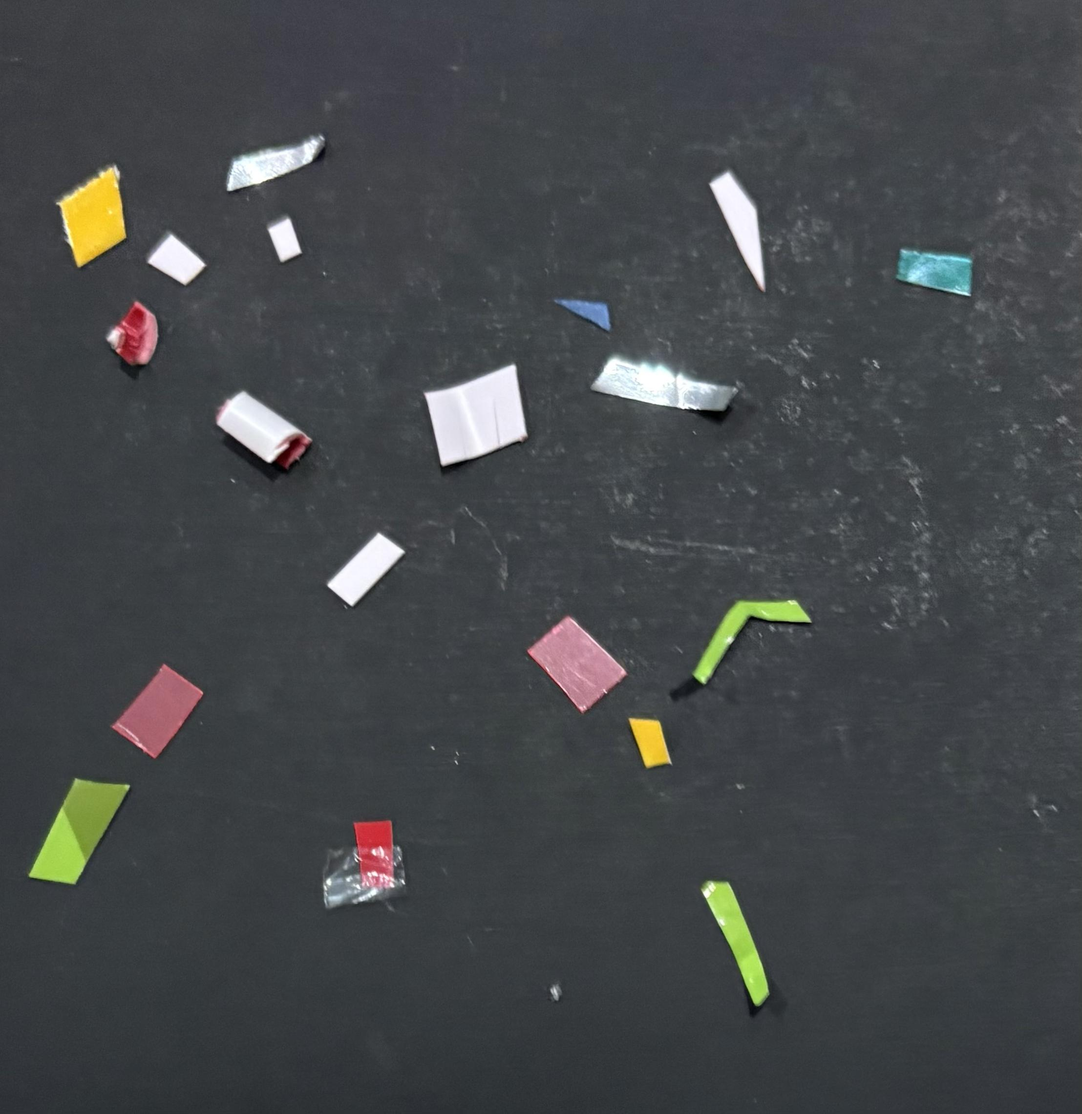Microplastic Particle: (291, 793, 413, 910), (670, 600, 810, 700), (699, 880, 787, 1017), (28, 778, 129, 884), (425, 364, 527, 466), (527, 616, 627, 712), (112, 664, 203, 758), (592, 358, 737, 411), (217, 392, 310, 469), (57, 166, 126, 266), (710, 171, 765, 292), (225, 133, 325, 191), (327, 533, 405, 606), (460, 505, 508, 590), (897, 249, 971, 296), (106, 302, 157, 365), (147, 232, 206, 285), (610, 535, 758, 556), (629, 718, 670, 768), (553, 298, 611, 331), (267, 215, 302, 262), (549, 982, 562, 1002)
